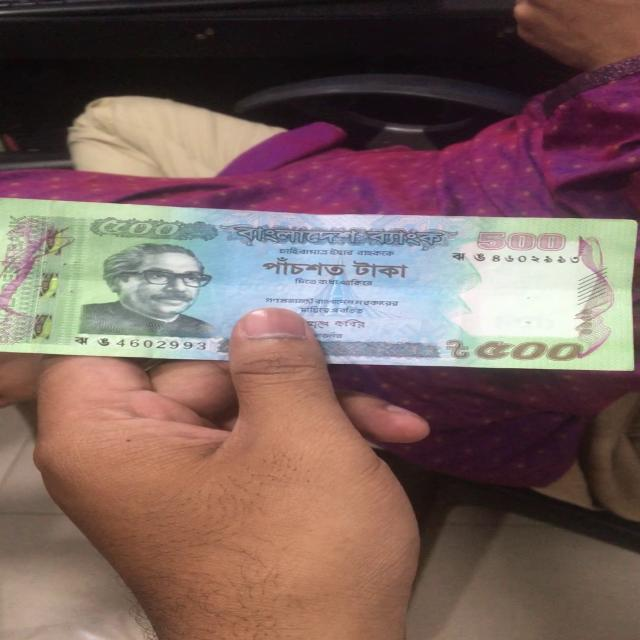Taka: (2, 198, 636, 372)
